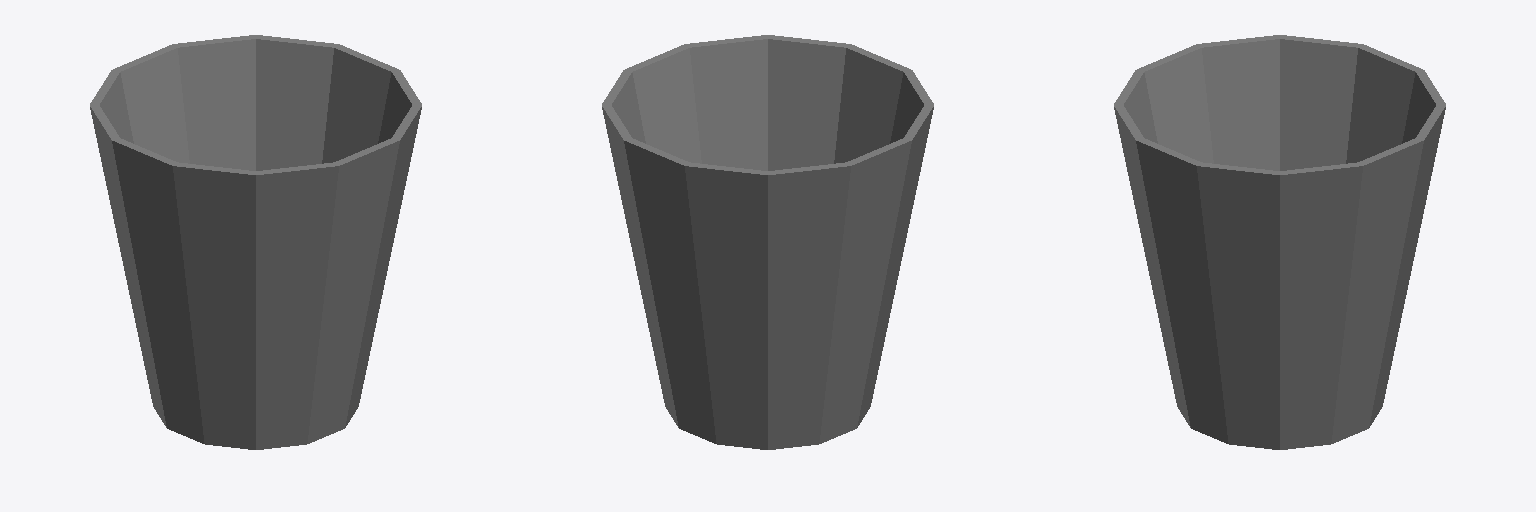
File: Trash.obj
3 views of the same model, side by side, from view 1: azimuth 30°, elevation 25°; view 2: azimuth 150°, elevation 25°; view 3: azimuth 270°, elevation 25° (orthographic).
Visible parts, largest first — view 1: Cylinder.011_Cylinder.012; view 2: Cylinder.011_Cylinder.012; view 3: Cylinder.011_Cylinder.012.
Boxes of the visible parts, <box> form: Cylinder.011_Cylinder.012: <box>90,35,421,449</box>; Cylinder.011_Cylinder.012: <box>602,35,933,449</box>; Cylinder.011_Cylinder.012: <box>1114,35,1445,449</box>.
Size of the model in its own units: 0.7836 by 0.7836 by 0.7836.